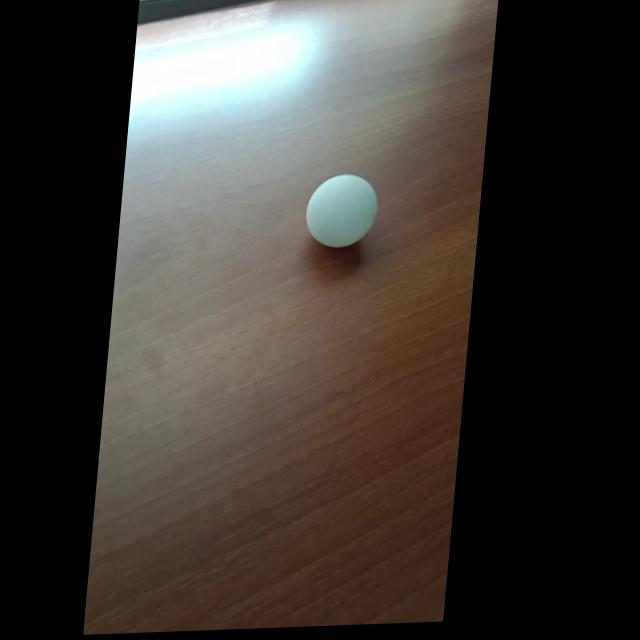white ball: (302, 172, 380, 249)
